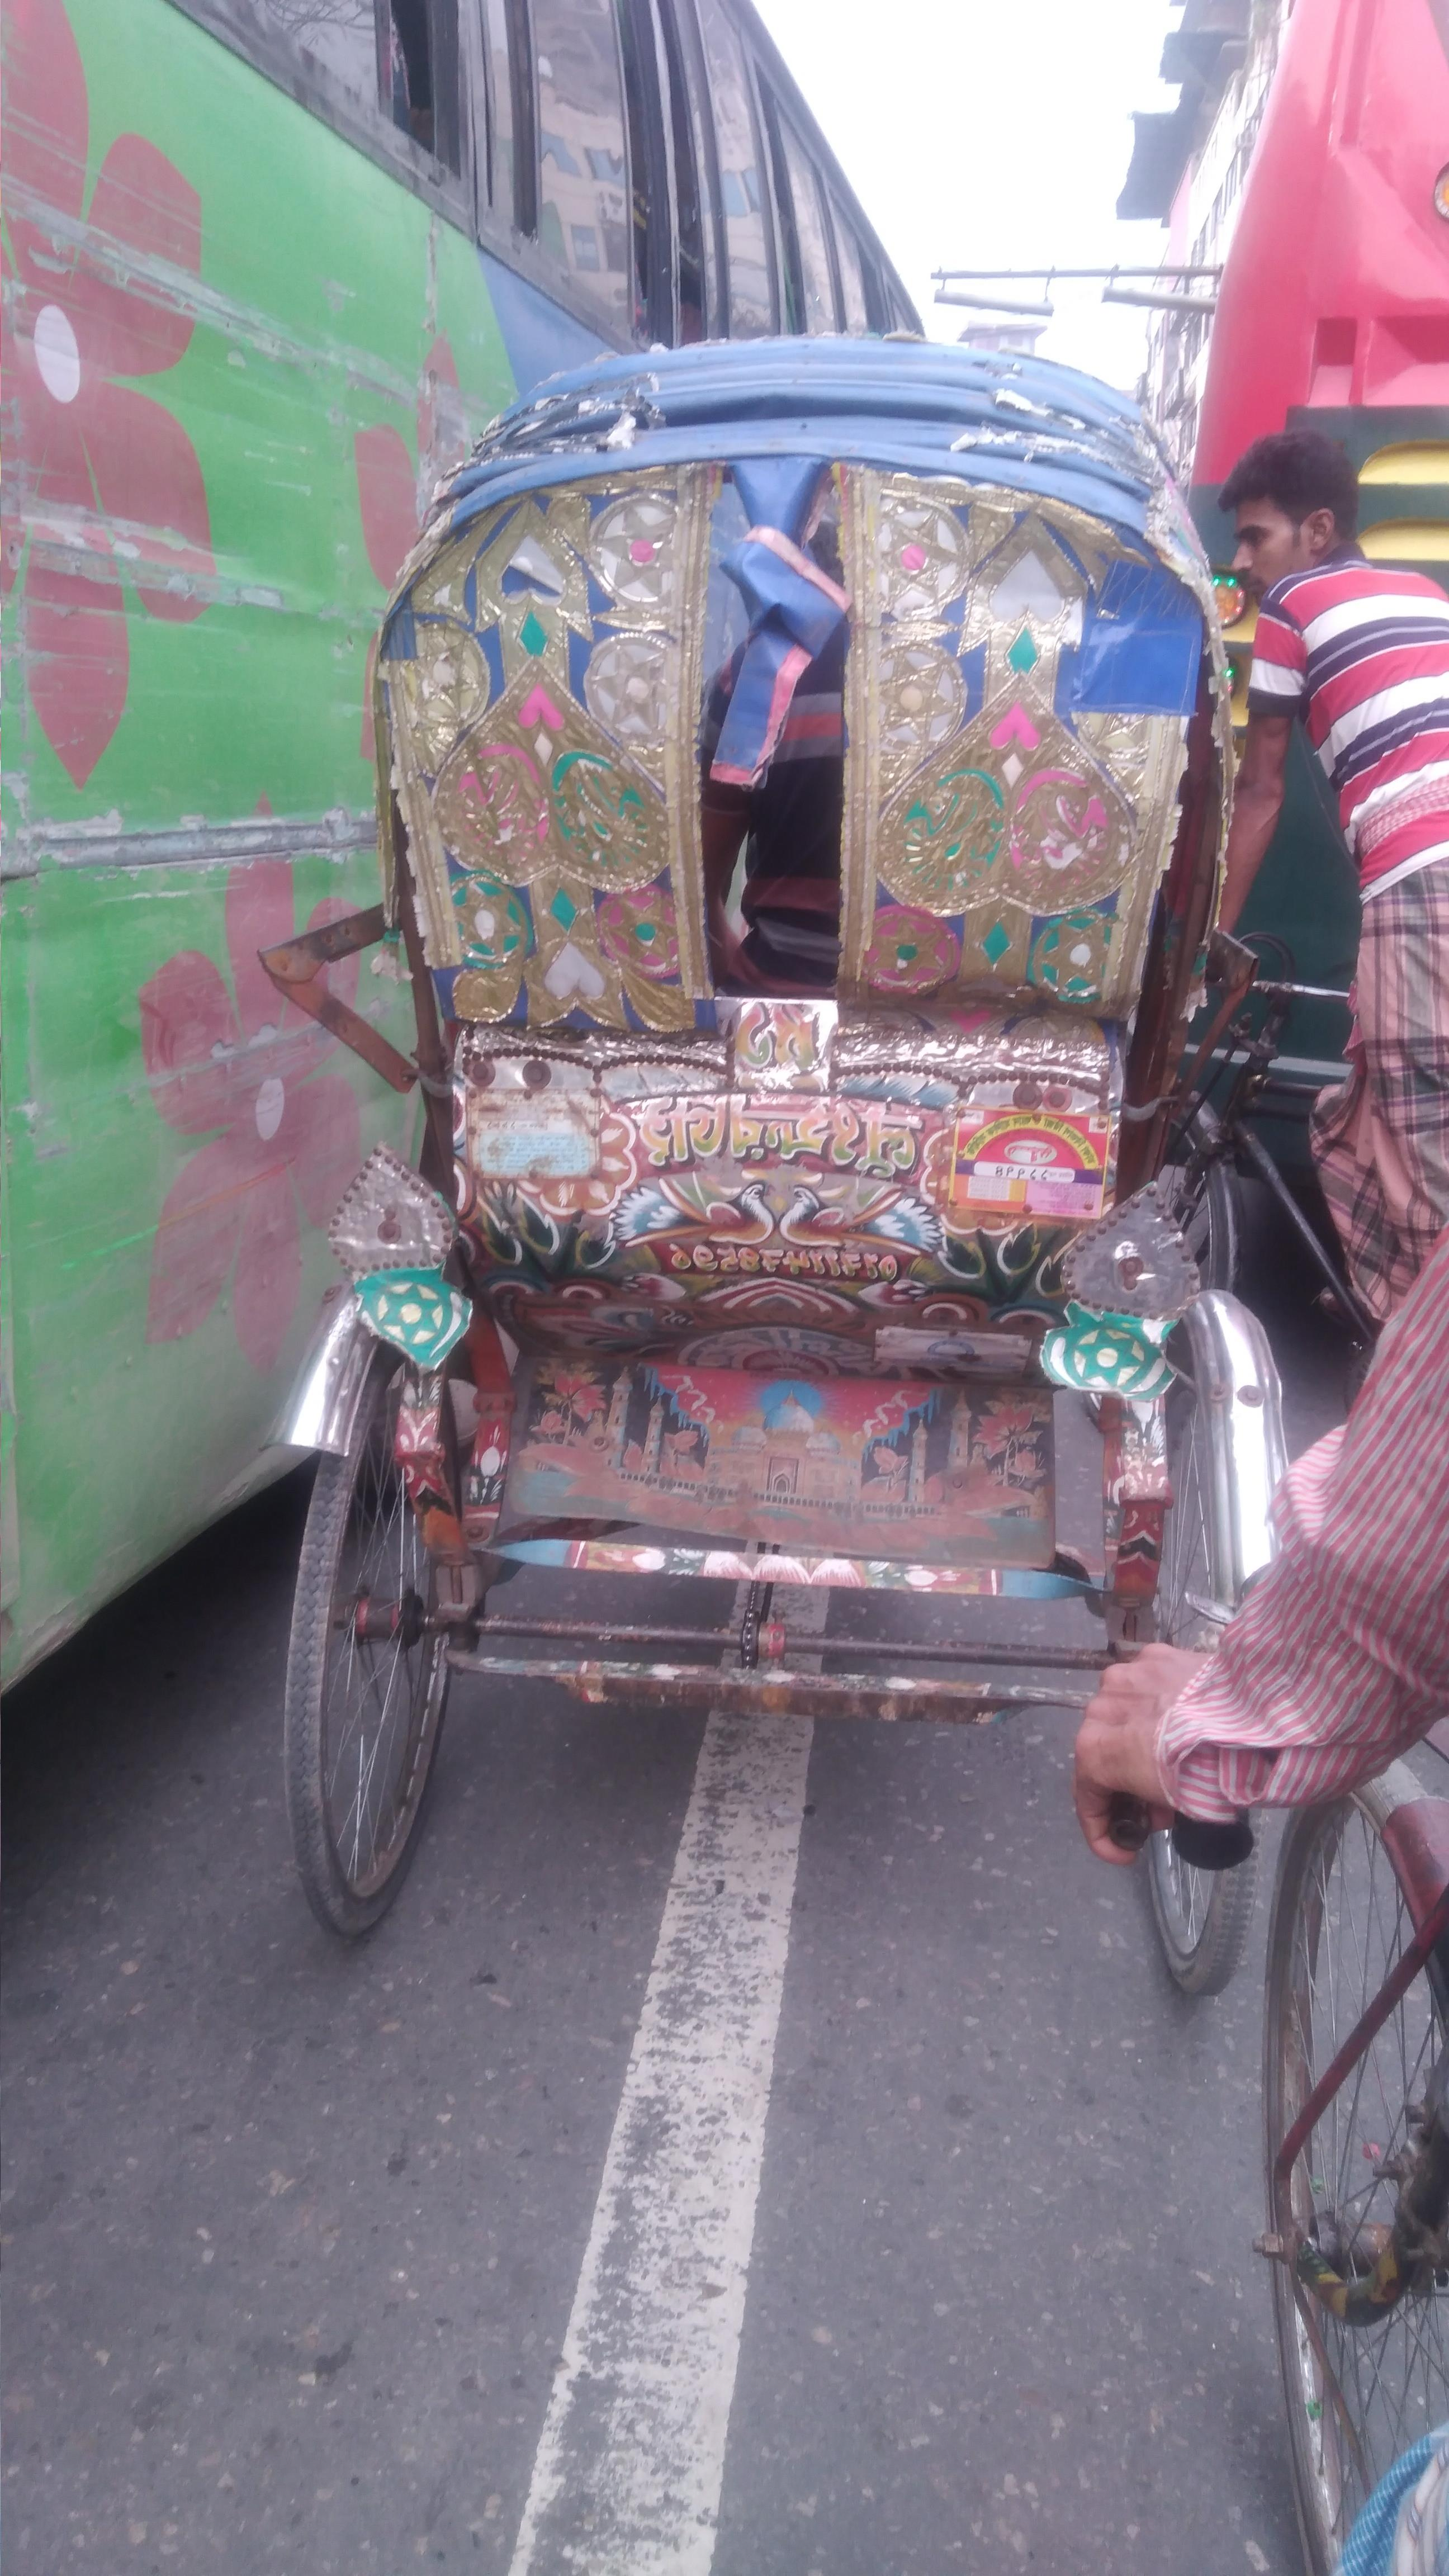Rickshaw: (324, 313, 1269, 1974)
